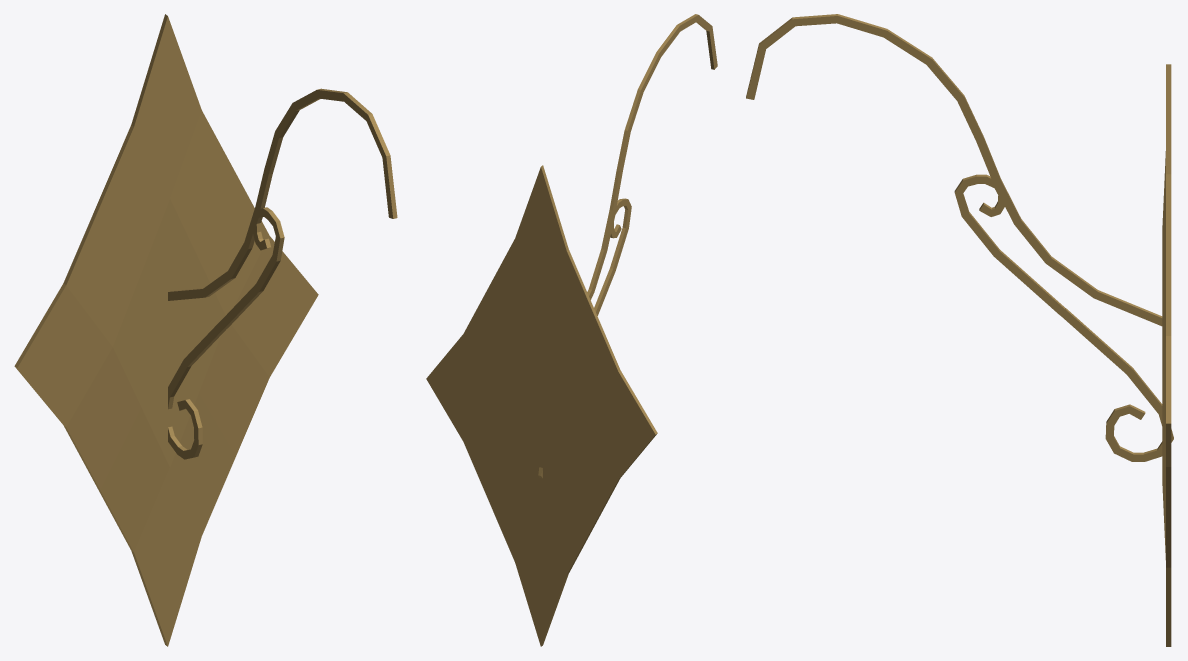
File: LampHolder.fbx
3 views of the same model, side by side, from view 1: azimuth 30°, elevation 25°; view 2: azimuth 150°, elevation 25°; view 3: azimuth 270°, elevation 25° (orthographic). The views are drawn at different scales.
Parts seen in each view (by area): view 1: Applique, BezierCurve; view 2: Applique, BezierCurve; view 3: BezierCurve, Applique.
Part boxes in pixels (x1,y1,x2,y2): Applique: (14, 14, 318, 646); BezierCurve: (168, 88, 397, 459); Applique: (426, 165, 657, 646); BezierCurve: (538, 14, 717, 478); BezierCurve: (746, 14, 1173, 461); Applique: (1162, 64, 1171, 646).
Bounding box in the file's own units: 38.47 × 83.45 × 51.19.
